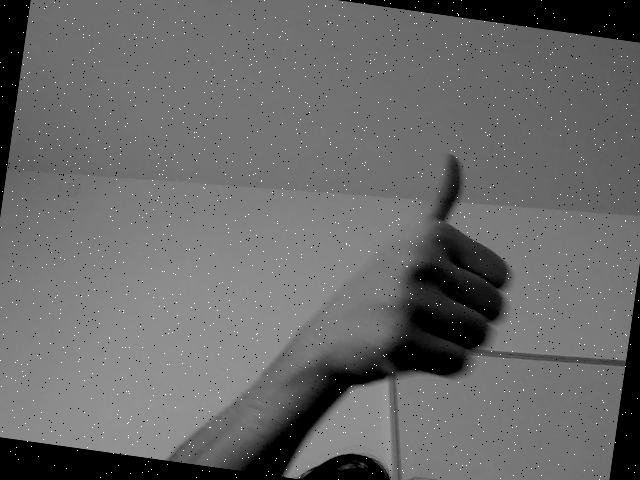good: (296, 141, 572, 428)
